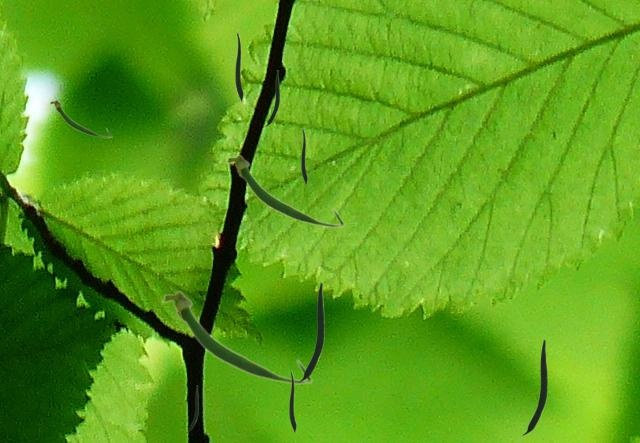french_bean: (161, 290, 312, 384), (225, 154, 344, 227), (298, 282, 323, 381), (49, 99, 111, 137), (522, 339, 546, 434), (265, 70, 278, 125), (235, 32, 242, 100), (187, 385, 197, 431), (289, 371, 295, 431), (301, 128, 306, 183)
